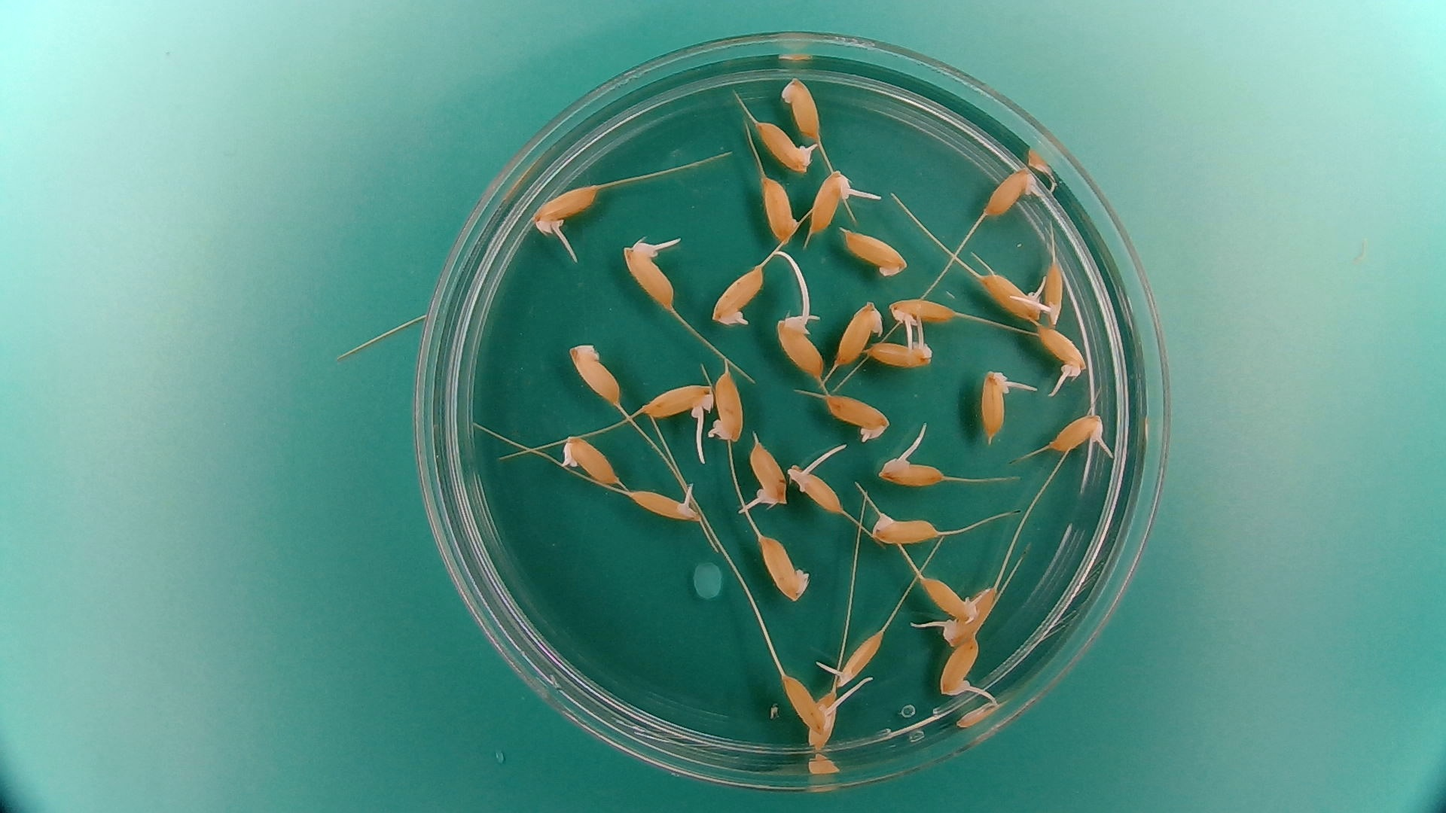no: (758, 531, 813, 601), (838, 226, 911, 276), (566, 341, 622, 406), (834, 300, 885, 367), (759, 174, 802, 243), (779, 74, 823, 140), (867, 507, 940, 544), (807, 687, 837, 755)
yes: (621, 233, 676, 312), (530, 181, 602, 238), (779, 671, 836, 741), (977, 269, 1048, 324), (941, 584, 999, 650), (822, 391, 893, 444), (751, 118, 818, 174), (708, 262, 764, 328), (776, 309, 827, 379), (636, 379, 715, 424), (557, 432, 620, 488), (981, 163, 1048, 215), (743, 434, 788, 510), (1034, 321, 1087, 385), (832, 626, 884, 687), (914, 574, 981, 620), (708, 365, 746, 444), (809, 169, 855, 233), (786, 466, 842, 516), (1046, 409, 1106, 455), (627, 486, 701, 523), (888, 294, 961, 330), (938, 638, 981, 697), (978, 367, 1012, 440), (875, 452, 948, 485), (863, 337, 935, 370), (1040, 257, 1065, 324)
